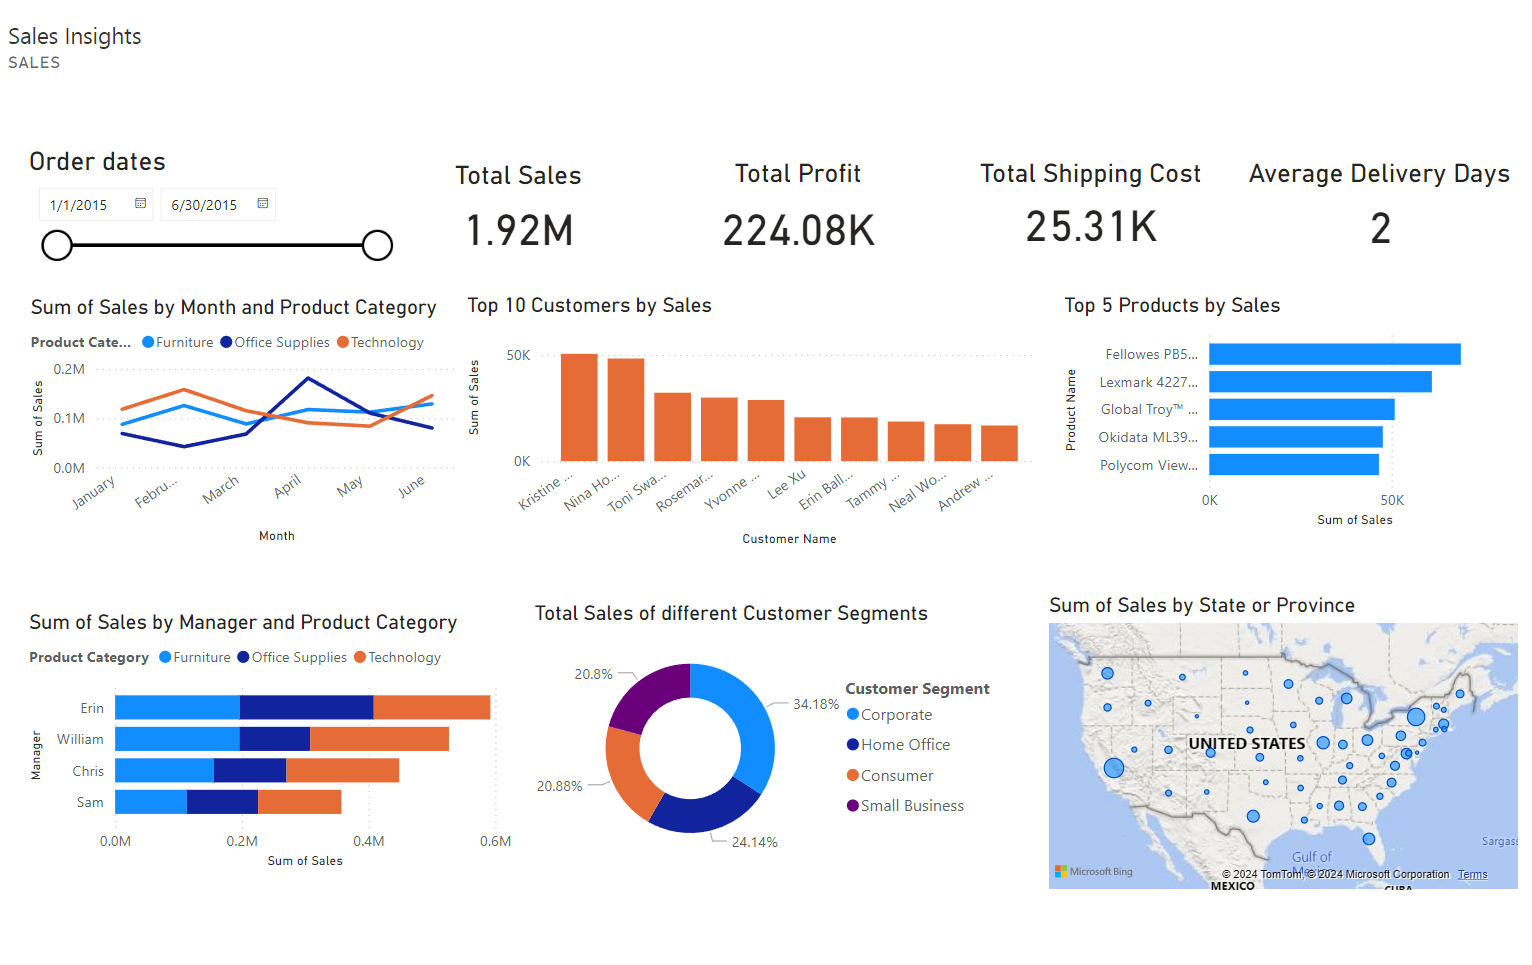

Layout of this report page (visuals, bound fields, positions):
{"tool":"powerbi","page":{"name":"Sales","canvas":[1280,720],"ordinal":0},"visuals":[{"type":"lineChart","fields":{"Category":["Orders.Order Date.Variation.Date Hierarchy.Month"],"Y":["Orders.Sales"],"Series":["Orders.Product Category"]},"box":[25.7,132.9,362.9,210],"z":0},{"type":"card","title":"Total Sales","fields":{"Values":["Orders.Sales"]},"box":[341.7,21.7,186.7,85],"z":1000},{"type":"map","fields":{"Category":["Orders.Region Hierarchy.State or Province","Orders.Region Hierarchy.City"],"Size":["Orders.Sales"]},"box":[870,380,398.3,250],"z":2000},{"type":"card","title":"Total Profit","fields":{"Values":["Orders.Profit"]},"box":[588.3,20,158.3,86.7],"z":3000},{"type":"card","title":"Total Shipping Cost","fields":{"Values":["Orders.Shipping Cost"]},"box":[796.5,19.7,225.6,80.3],"z":4000},{"type":"donutChart","title":"Total Sales of different Customer Segments","fields":{"Category":["Orders.Customer Segment"],"Y":["Orders.Sales"]},"box":[443.3,386.7,393.3,225],"z":5000},{"type":"card","title":"Average Delivery Days","fields":{"Values":["Orders.DeliveryDays"]},"box":[1035,20,228.3,83.3],"z":6000},{"type":"clusteredBarChart","title":"Top 5 Products by Sales","fields":{"Category":["Orders.Product Name"],"Y":["Orders.Sales"]},"box":[882.8,131.7,381.6,198.4],"z":7000},{"type":"barChart","fields":{"Category":["Users.Manager"],"Y":["Orders.Sales"],"Series":["Orders.Product Category"]},"box":[25,393.3,410,218.3],"z":8000},{"type":"slicer","title":"Order dates","fields":{"Values":["Orders.Order Date"]},"box":[25,10,315,98.3],"z":9000},{"type":"columnChart","title":"Top 10 Customers by Sales","fields":{"Category":["Orders.Customer Name"],"Y":["Orders.Sales"]},"box":[388,132,482,214],"z":10000}]}

Visuals, with their boxes on the page's 1280x720 design canvas (x1, y1, x2, y2). These are canvas units, not pixel positions in the 1532x965 screenshot, which may show the page scaled, cropped or inside an application window:
lineChart - Orders.Order Date.Variation.Date Hierarchy.Month x Orders.Sales: <region>26, 133, 389, 343</region>
"Total Sales" card: <region>342, 22, 528, 107</region>
map - Orders.Region Hierarchy.State or Province x Orders.Region Hierarchy.City: <region>870, 380, 1268, 630</region>
"Total Profit" card: <region>588, 20, 747, 107</region>
"Total Shipping Cost" card: <region>796, 20, 1022, 100</region>
"Total Sales of different Customer Segments" donutChart: <region>443, 387, 837, 612</region>
"Average Delivery Days" card: <region>1035, 20, 1263, 103</region>
"Top 5 Products by Sales" clusteredBarChart: <region>883, 132, 1264, 330</region>
barChart - Users.Manager x Orders.Sales: <region>25, 393, 435, 612</region>
"Order dates" slicer: <region>25, 10, 340, 108</region>
"Top 10 Customers by Sales" columnChart: <region>388, 132, 870, 346</region>
